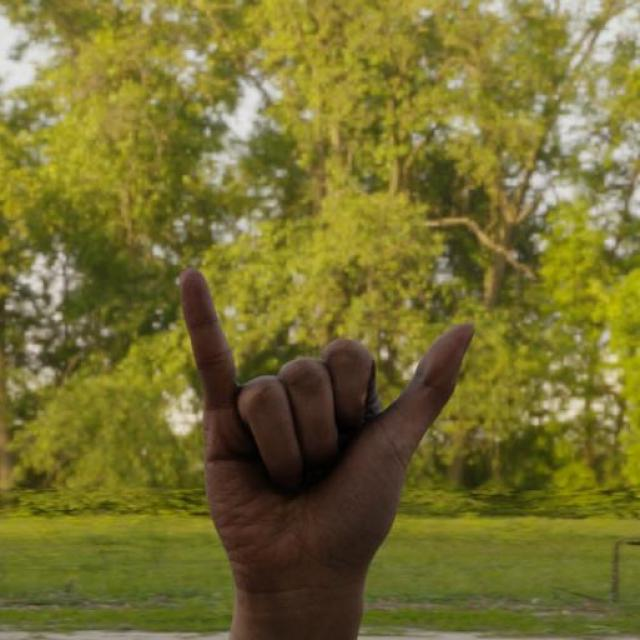Y: (172, 264, 478, 594)
